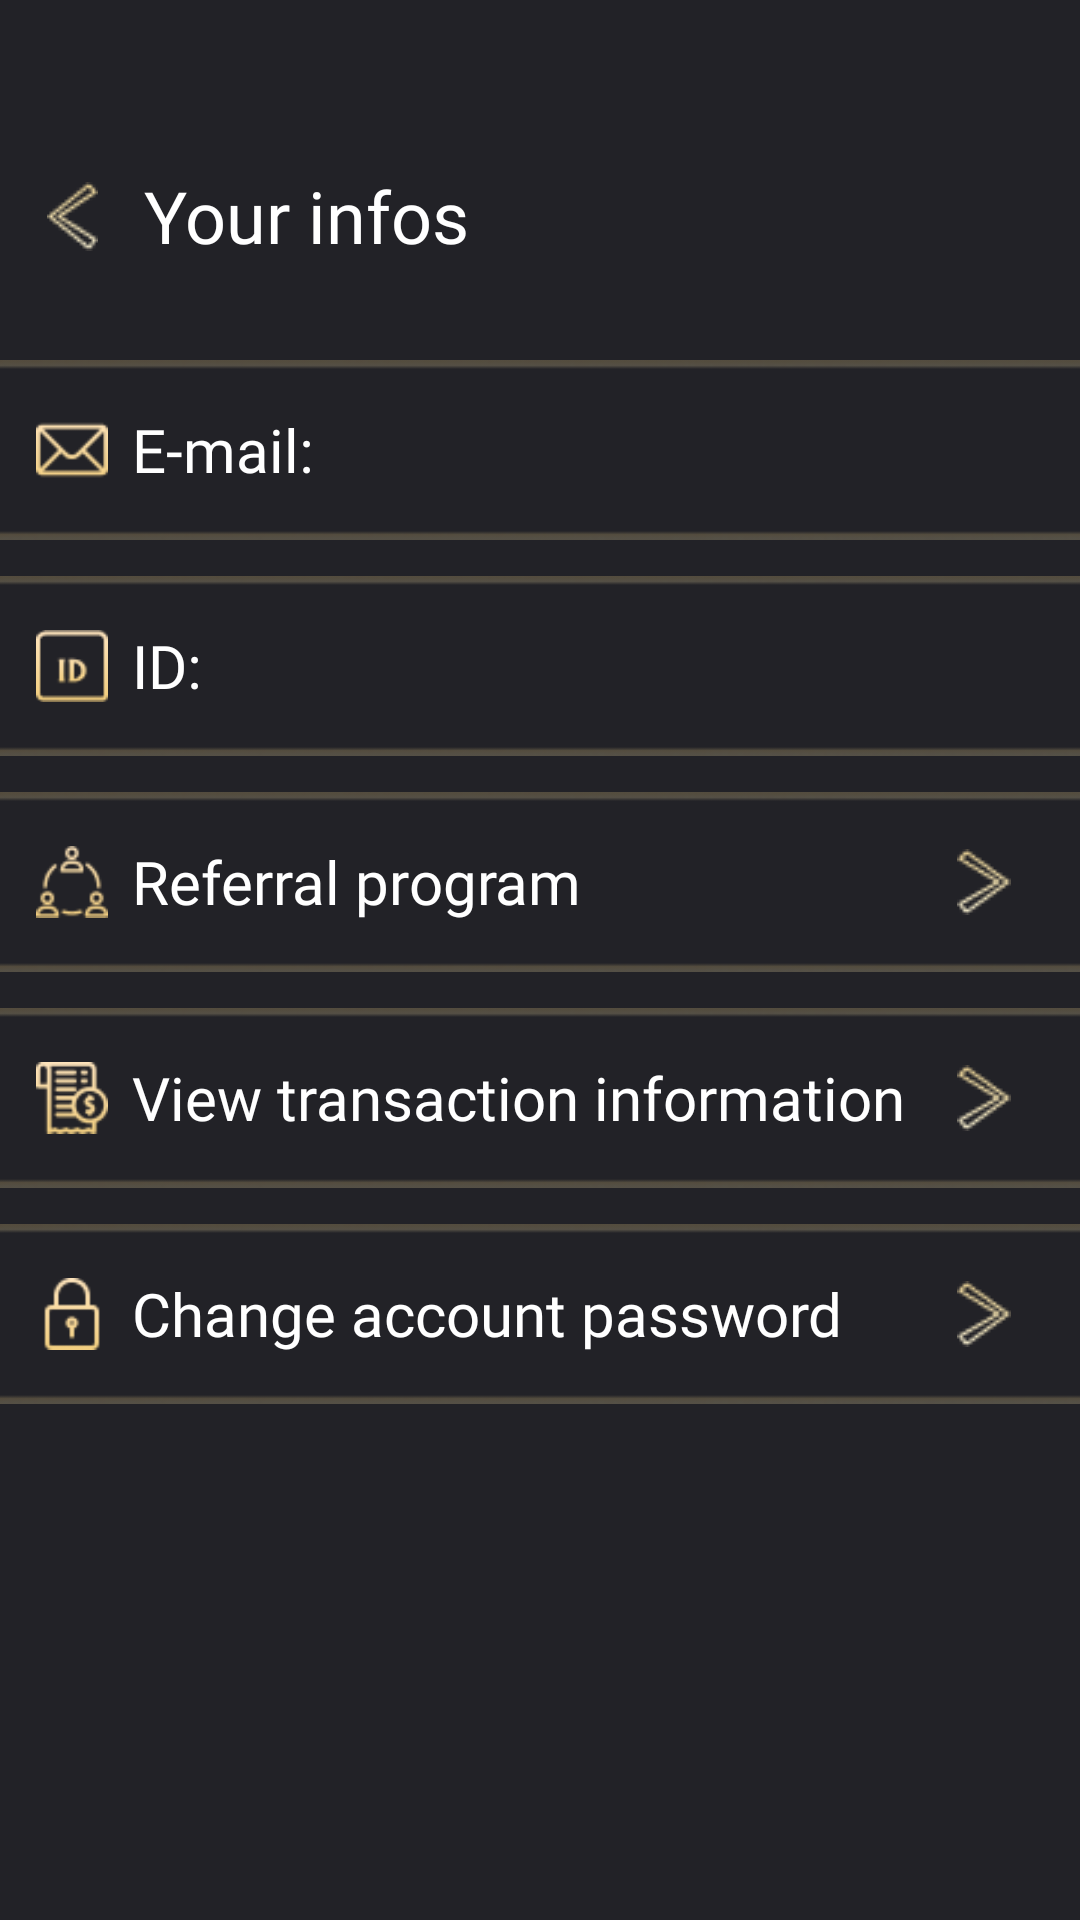

Icons on this 1080 × 1920 Android screen, each with the point to tap as (x,y):
Back: (72,216)
history: (72,1098)
